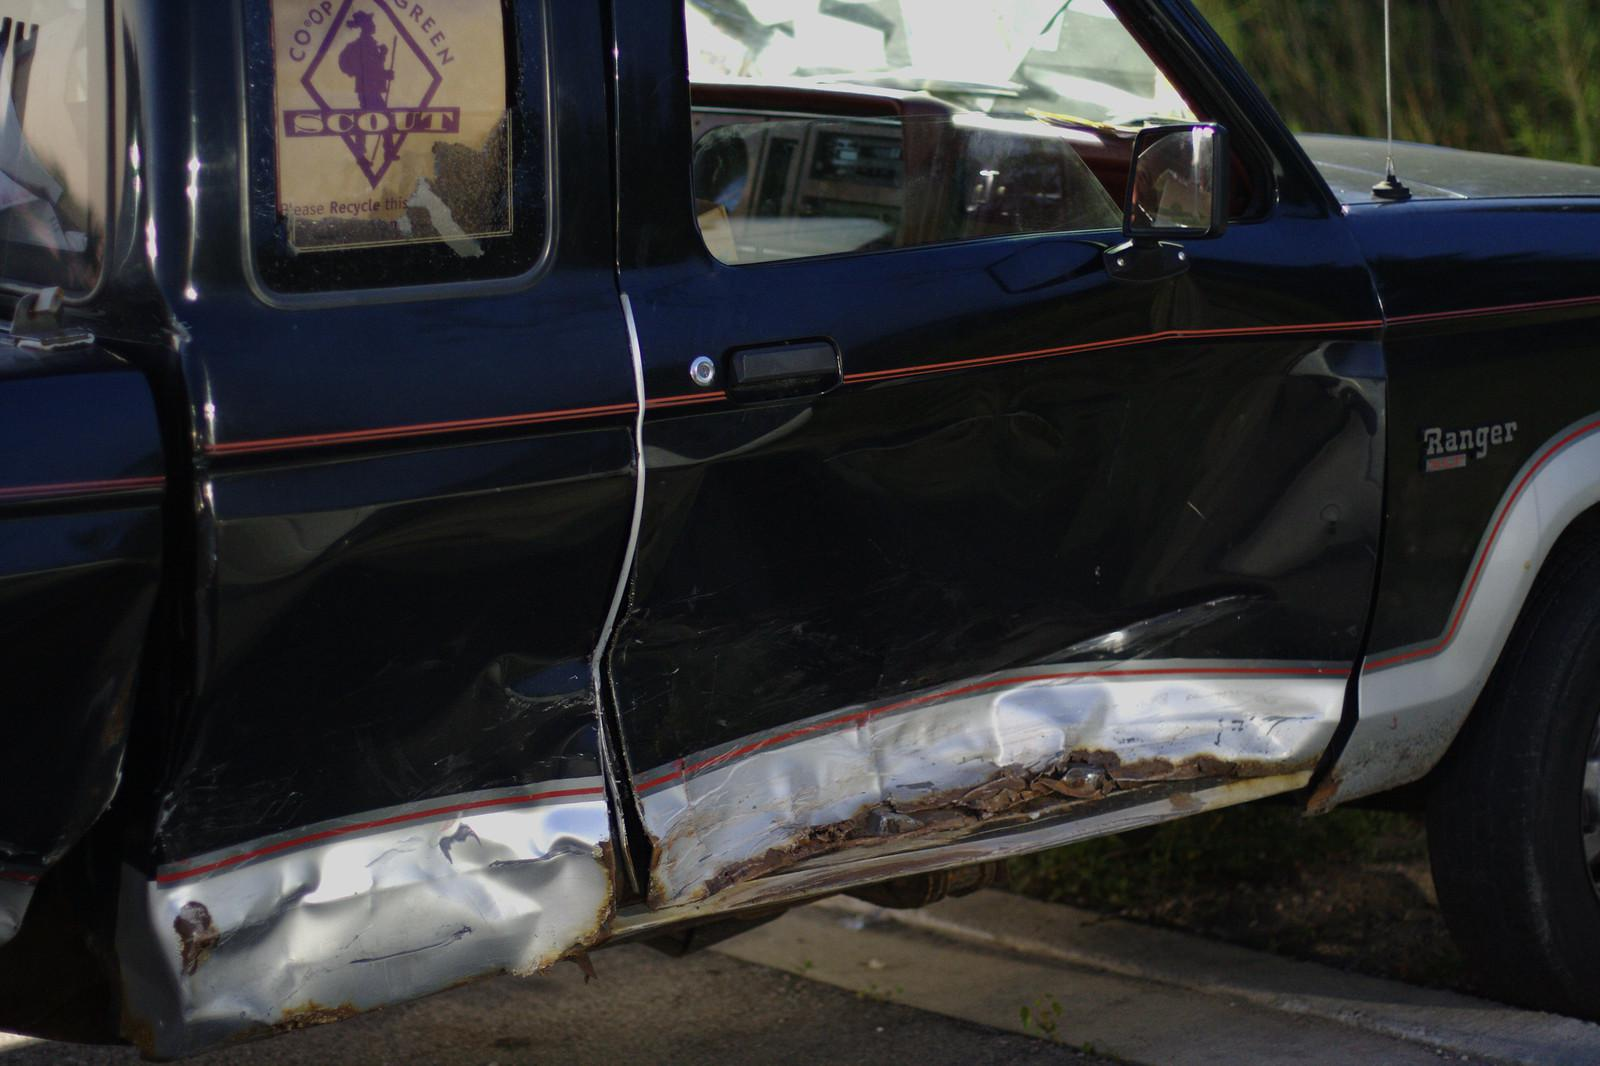RunningBoard-Dent: (606, 767, 1339, 933)
doorouter-dent: (611, 220, 1329, 745), (131, 399, 592, 978)
